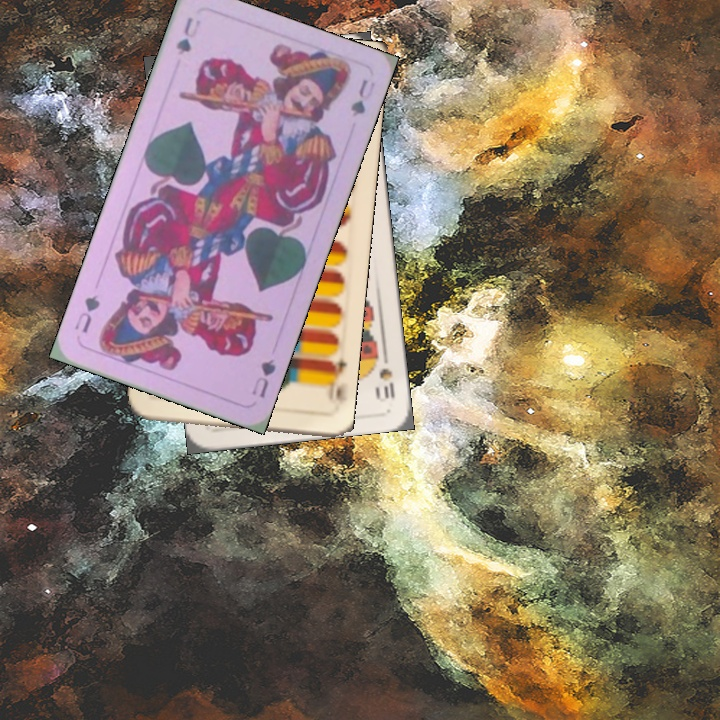E10: (321, 354, 350, 413)
GU: (171, 13, 204, 58), (247, 355, 278, 401)
S10: (374, 346, 397, 405)
